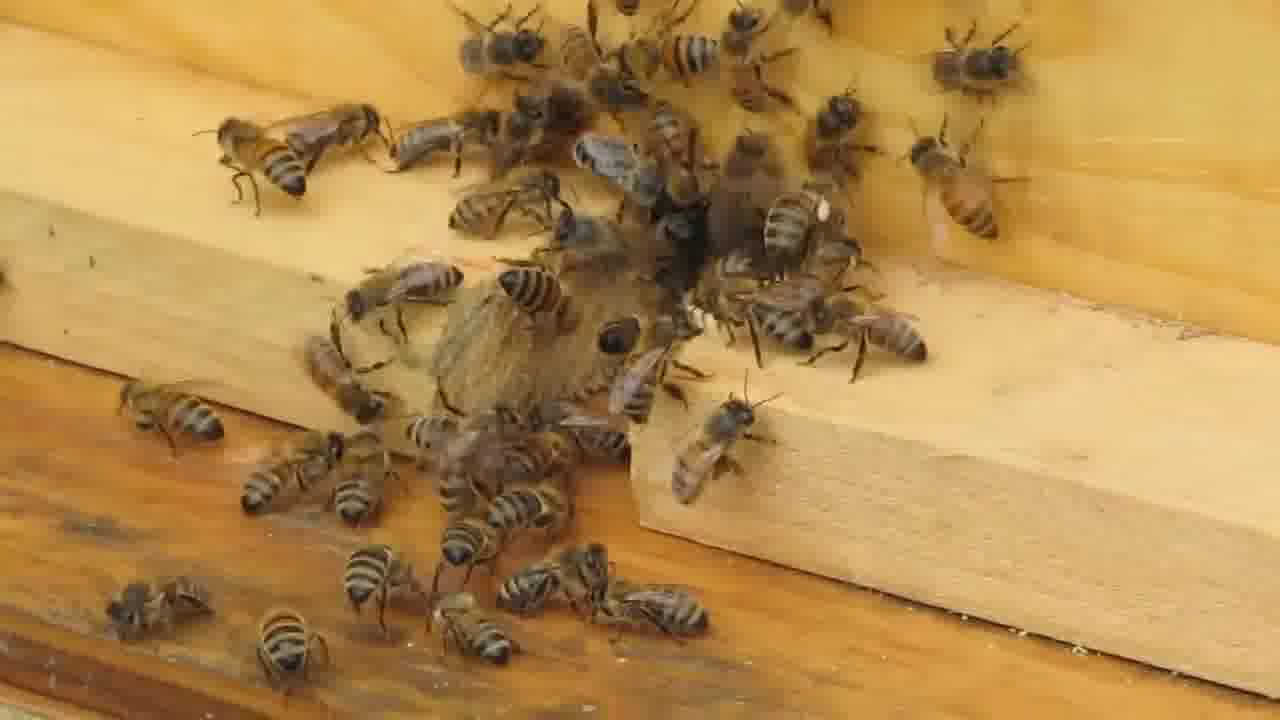pollen: (763, 182, 836, 260)
